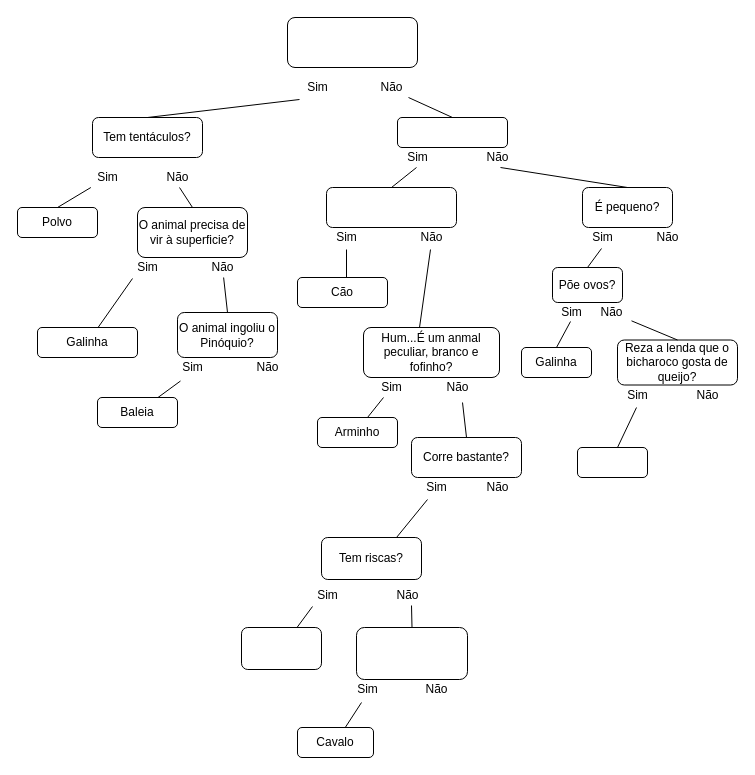
Image size: 755x775. Some labels were removed from this diagram. Here are the shapes that lost their labels. From the top down, the box of each, then its label:
(286, 16, 418, 68): O seu habitat é a agua?
(396, 116, 508, 148): Tem quatro patas?
(326, 186, 456, 228): Está Presente no filme 101 dalmatas
(576, 446, 648, 478): Rato
(240, 626, 322, 670): Zebra
(356, 626, 468, 680): É um animal presente no filme spirit?
